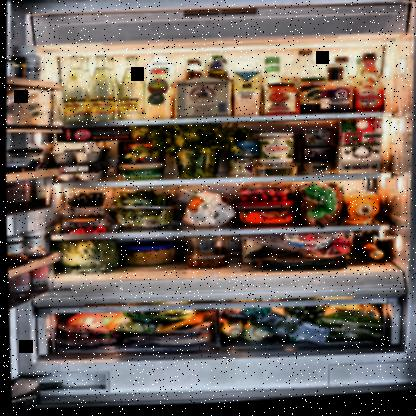blueberries: (69, 193, 98, 208)
milk: (146, 57, 174, 121), (232, 73, 263, 120)
parsley: (160, 124, 238, 156)
tomato: (265, 192, 274, 200), (275, 194, 286, 200), (249, 198, 258, 205), (239, 199, 249, 205), (277, 199, 285, 205), (268, 200, 278, 204)
